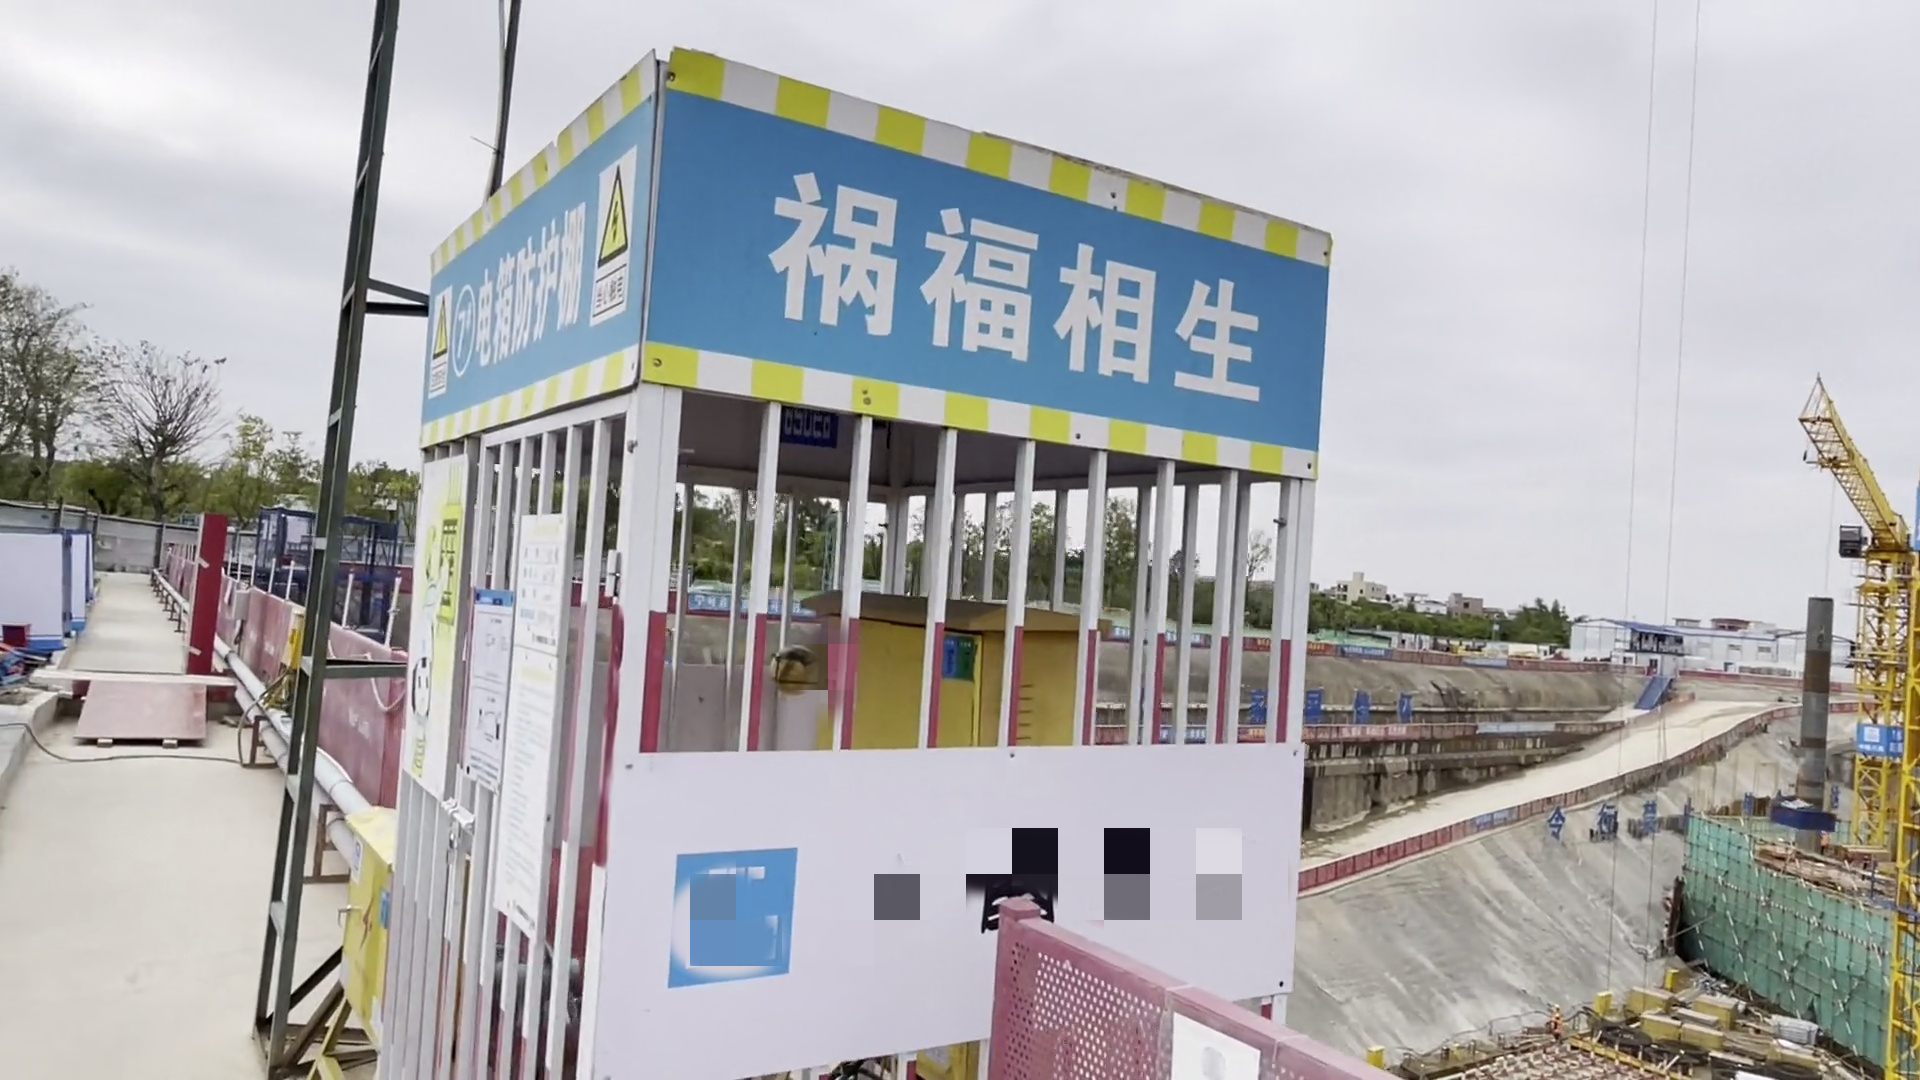board: (73, 665, 229, 771)
ebox: (803, 574, 1110, 760), (334, 796, 397, 1048)
fence: (968, 909, 1443, 1080)
slogan: (655, 61, 1319, 459), (371, 40, 667, 444)
